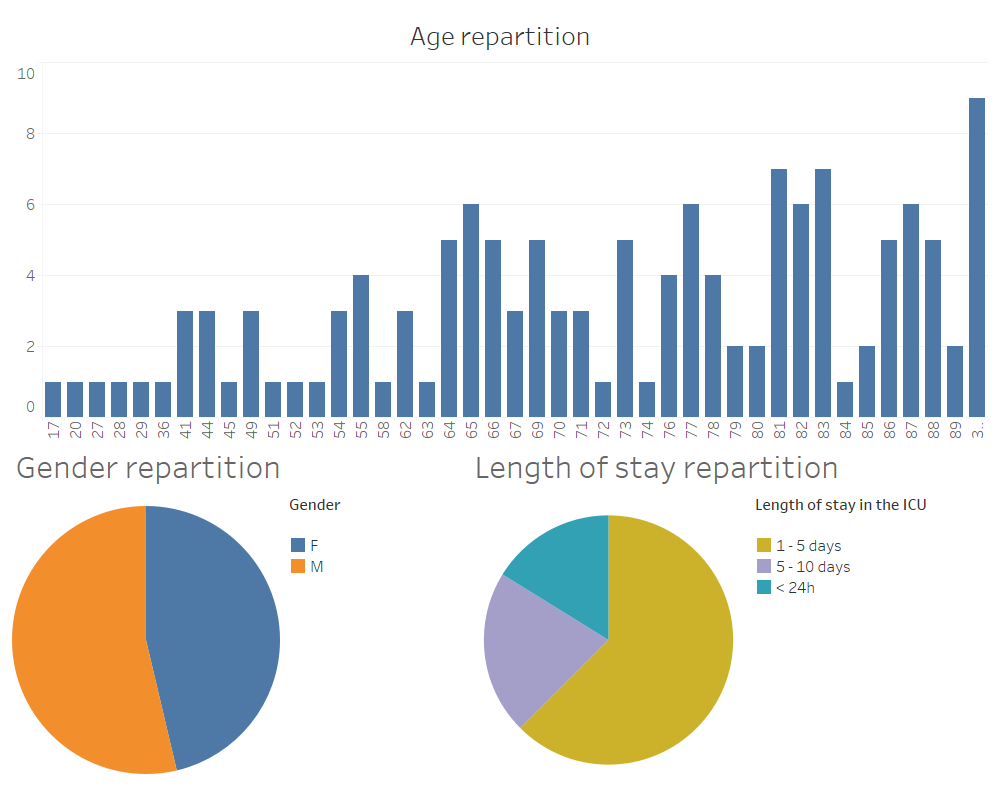

The page's visual inventory and layout, read from the dashboard file:
{"tool":"tableau","page":{"name":"Patient info","canvas":[1000,800],"ordinal":1},"visuals":[{"type":"worksheet","title":"age","mark":"Bar","rows":["age (Requête SQL personnalisée1)"],"cols":["val"],"box":[8,8,984,436]},{"type":"text","box":[8,444,477,44]},{"type":"text","box":[485,444,507,44]},{"type":"worksheet","title":"gender","mark":"Pie","box":[8,488,264,304]},{"type":"legend","title":"gender","param":"[federated.1nsq5fi0bp0r4t1cxadq20c2pgjx].[none:gender (Requête SQL personnalisée","box":[272,488,213,304]},{"type":"worksheet","title":"los","mark":"Pie","box":[485,488,265,304]},{"type":"legend","title":"los","param":"[federated.1nsq5fi0bp0r4t1cxadq20c2pgjx].[none:length_stay:nk]","box":[750,488,242,304]}]}

Visuals, with their boxes in screenshot pixels (x1, y1, x2, y2), scaled from the page's 1000x800 canvas onto the 1000x800 screenshot:
"age" worksheet (Bar marks): l=8, t=8, r=992, b=444
text: l=8, t=444, r=485, b=488
text: l=485, t=444, r=992, b=488
"gender" worksheet (Pie marks): l=8, t=488, r=272, b=792
"gender" legend: l=272, t=488, r=485, b=792
"los" worksheet (Pie marks): l=485, t=488, r=750, b=792
"los" legend: l=750, t=488, r=992, b=792
